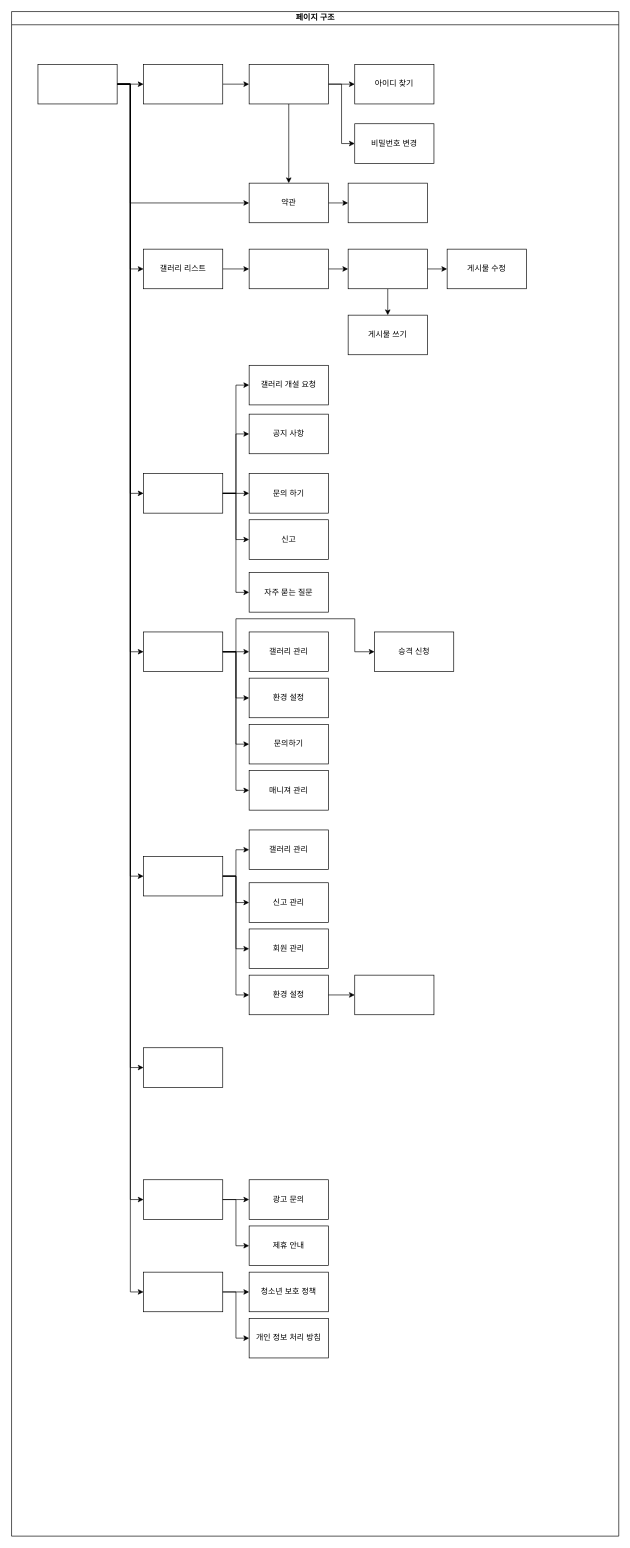
Image size: 630x1548. Some labels were removed from this diagram. The centre of each missing label's shape, as x and y in pixels:
"GC INSIDE" belongs at point 77,84.
"LOGIN" belongs at point 288,84.
"게시물 보기" belongs at point 387,268.
"고객 센터" belongs at point 183,493.
"마이페이지" belongs at point 183,1067.
"배너 관리" belongs at point 394,994.
"사이트 관리자" belongs at point 183,876.
"이용 약관" belongs at point 183,1291.
"커퓨니티 관리자" belongs at point 183,651.
"해당 갤러리 게시물 리스트" belongs at point 288,268.
"회사소개" belongs at point 183,1199.
"회원" belongs at point 183,84.
"회원가입" belongs at point 387,202.
